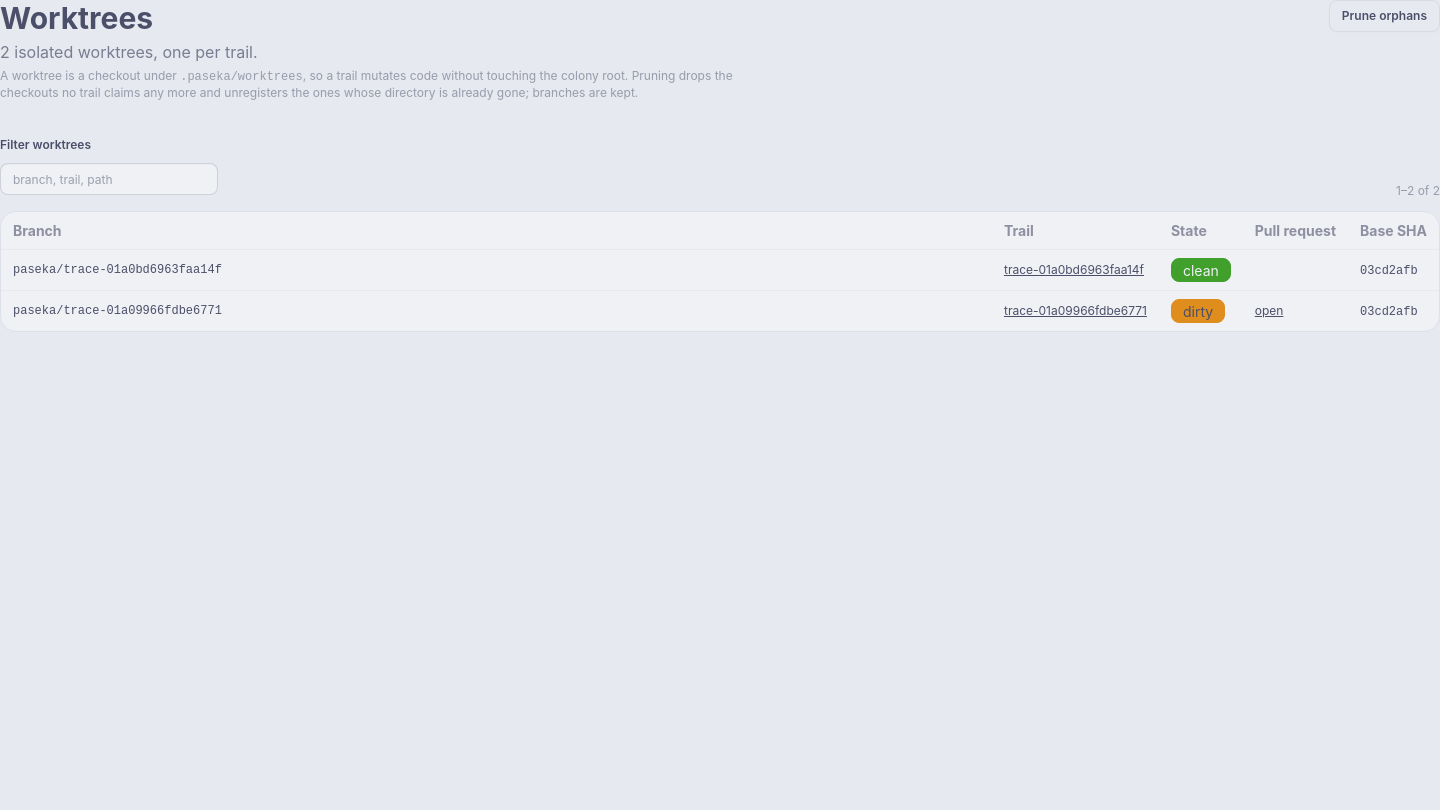
Scenario: worktrees route › confirms the prune, and says the dialog stays open when it fails
The width and height of the screenshot is (1440, 810).
Click the button "Prune orphans". click: click(1384, 16)
box: [1329, 0, 1439, 32]
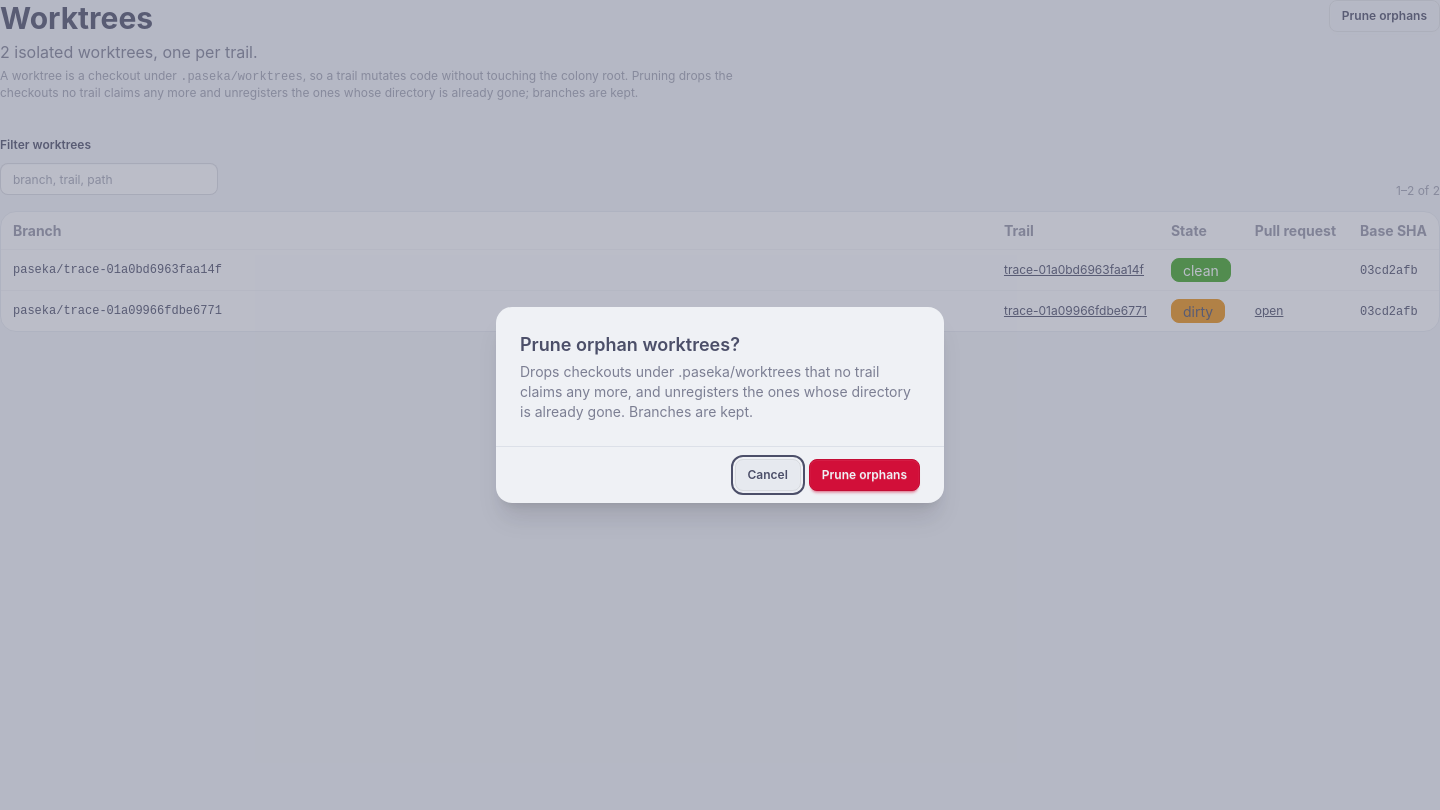
expect the dialog "Prune orphan worktrees?" shows "Branches are kept": met, box [520, 363, 911, 420]
Click the button "Prune orphans". click: click(864, 475)
box: [809, 459, 920, 491]
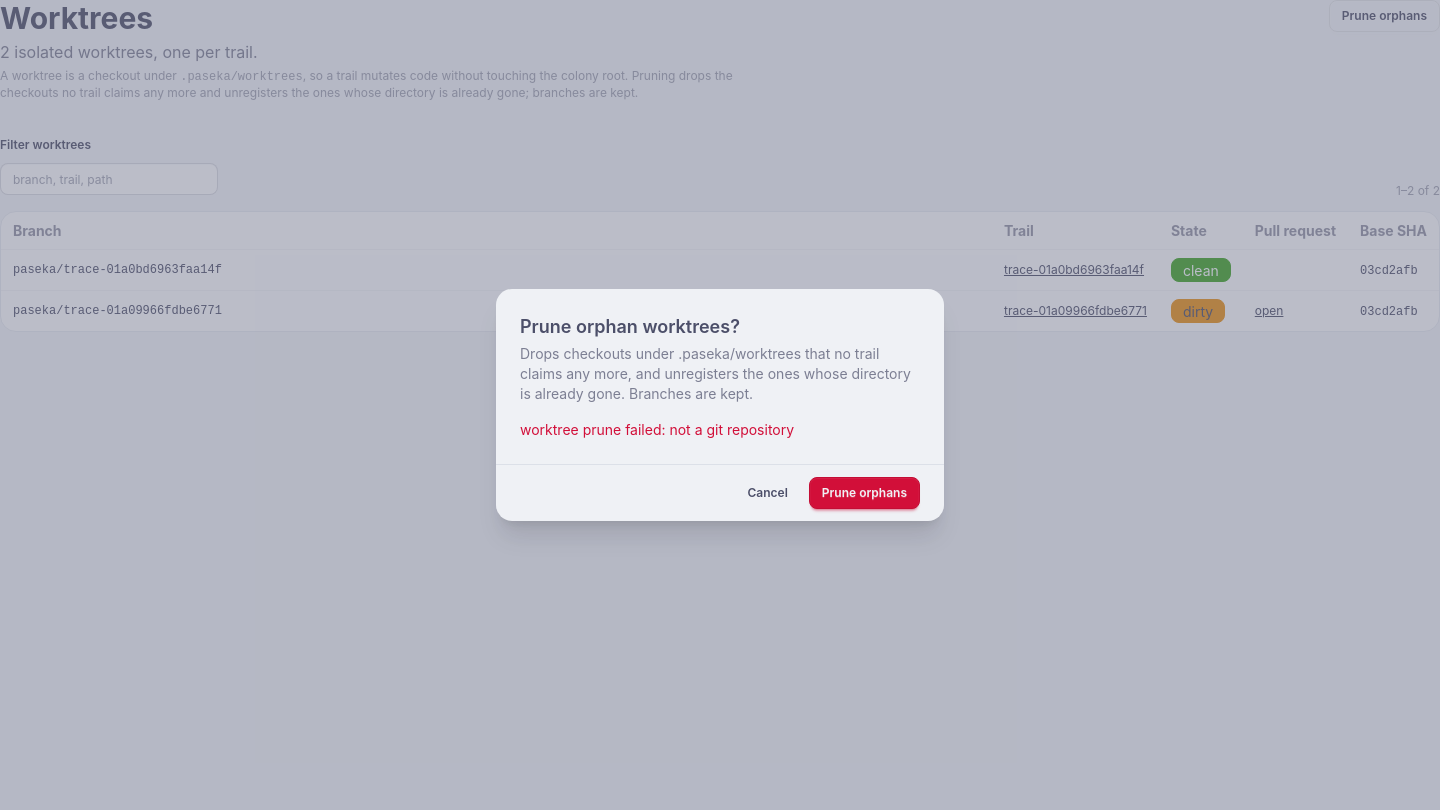
expect the message reads "worktree prune failed: not a git repository": met, box [520, 421, 794, 438]
